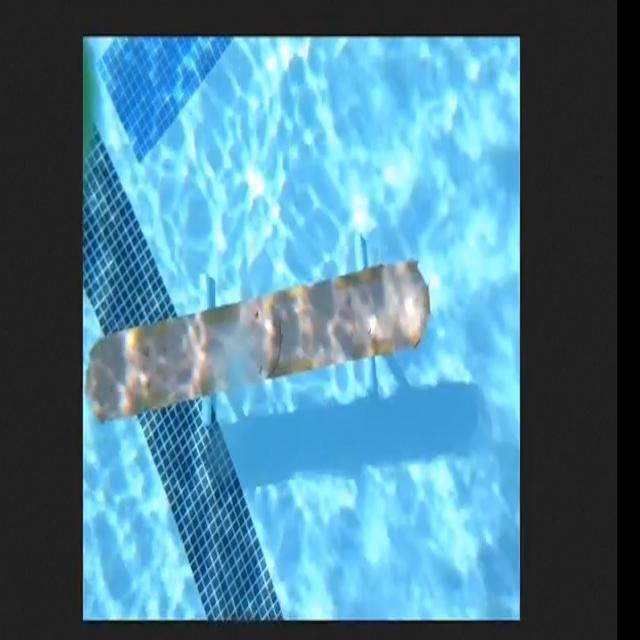Path: (91, 258, 432, 419)
